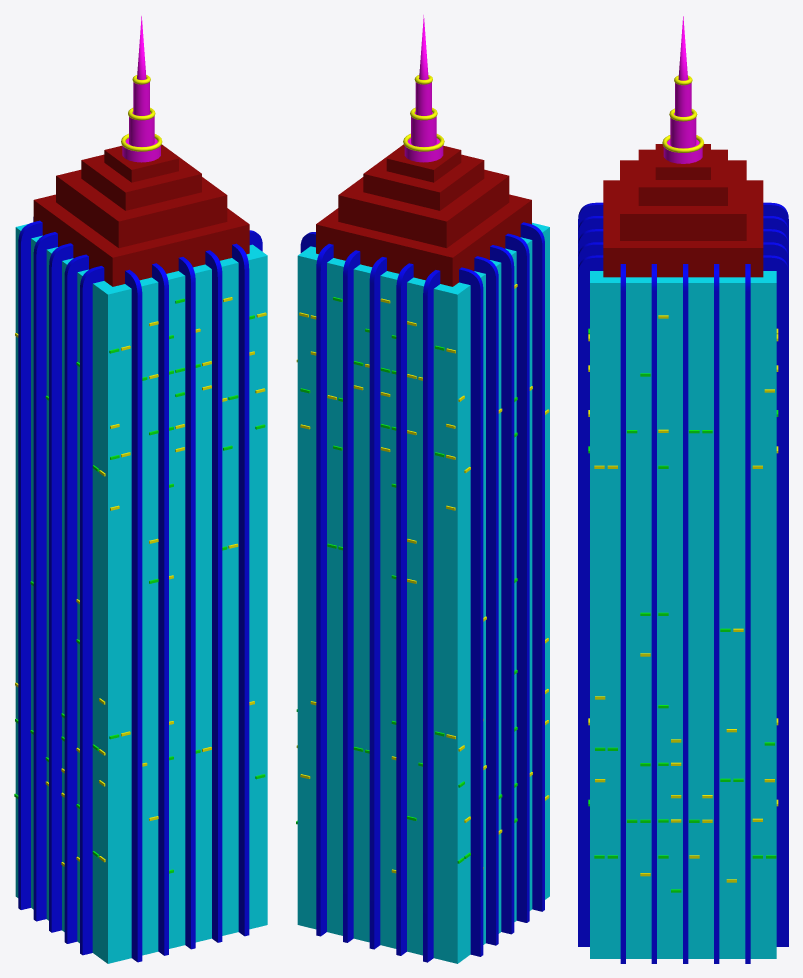
Rendered from SM_Building01.FBX.
3 renders of one model, left to right at view 1: azimuth 30°, elevation 25°; view 2: azimuth 150°, elevation 25°; view 3: azimuth 270°, elevation 25°, orthographic.
Visible parts, largest first — view 1: Box006; view 2: Box006; view 3: Box006.
Part boxes in pixels (x1=…): Box006: x1=14, y1=16, x2=267, y2=963; Box006: x1=296, y1=15, x2=549, y2=963; Box006: x1=578, y1=16, x2=788, y2=963.
Bounding box in the file's own units: 44.19 × 210 × 44.34.
